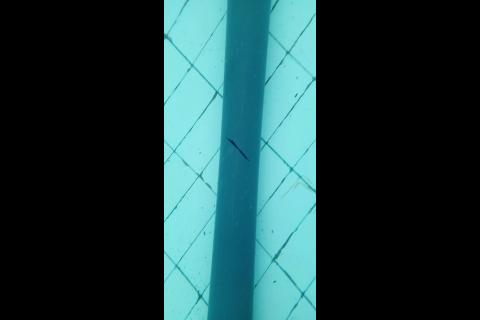keretakan: (226, 134, 250, 163)
